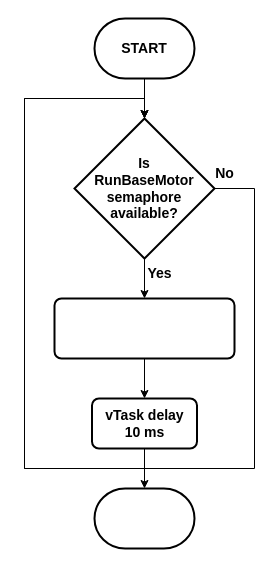
This 280x566 diagram has some shape labels left out. The shapes that lost their labels are listed below. From the top down, each one's centre as x and y in pixels, then its label:
(x=144, y=328): Write servo with base variable value from servo_data struct
(x=144, y=518): END
